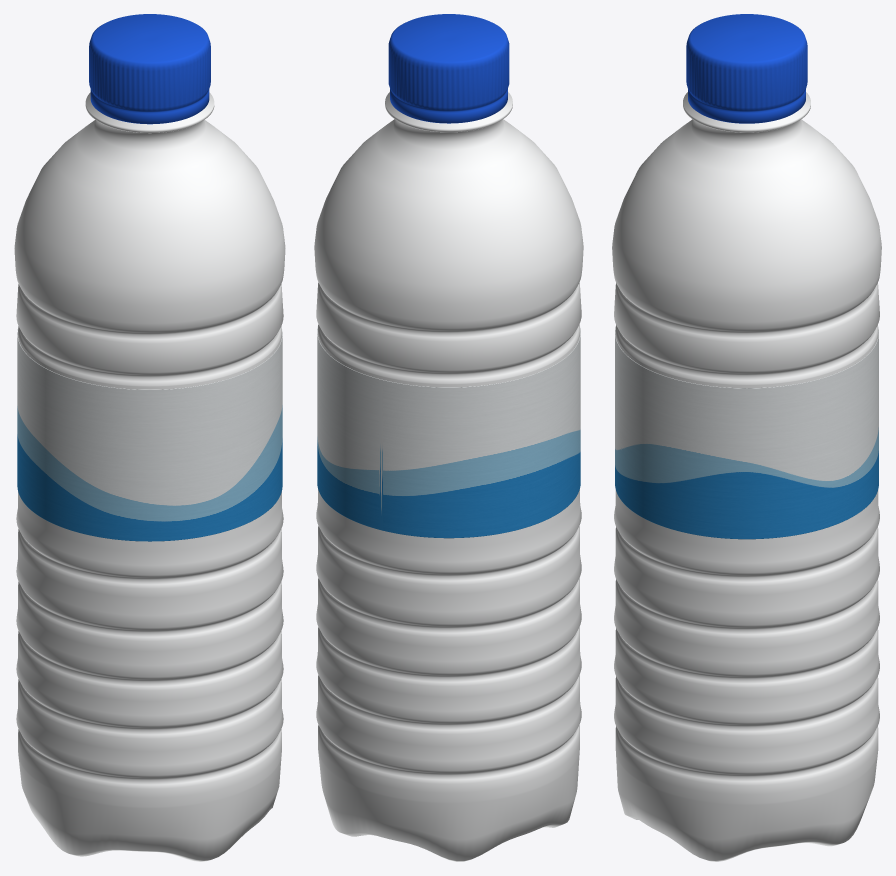
File: WaterBottle_BAG.glb
3 renders of one model, left to right at view 1: azimuth 30°, elevation 25°; view 2: azimuth 150°, elevation 25°; view 3: azimuth 270°, elevation 25°, orthographic.
Parts seen in each view (by area): view 1: bottle.body, bottle.label, bottle.cap; view 2: bottle.body, bottle.label, bottle.cap; view 3: bottle.body, bottle.label, bottle.cap.
Boxes of the visible parts, x1,y1,x2,y2 form: bottle.body: (14,92,285,861); bottle.label: (17,328,282,541); bottle.cap: (89,14,210,124); bottle.body: (314,92,583,861); bottle.label: (317,327,580,538); bottle.cap: (388,14,509,123); bottle.body: (612,92,881,861); bottle.label: (615,328,878,539); bottle.cap: (686,14,807,123).
Bounding box in the file's own units: 0.0687 × 0.2188 × 0.0687.
4 materials, 1 textured.
